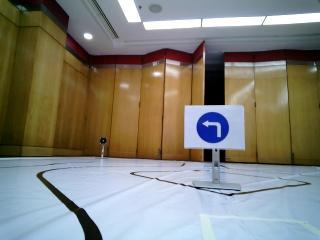left: (184, 108, 241, 151)
